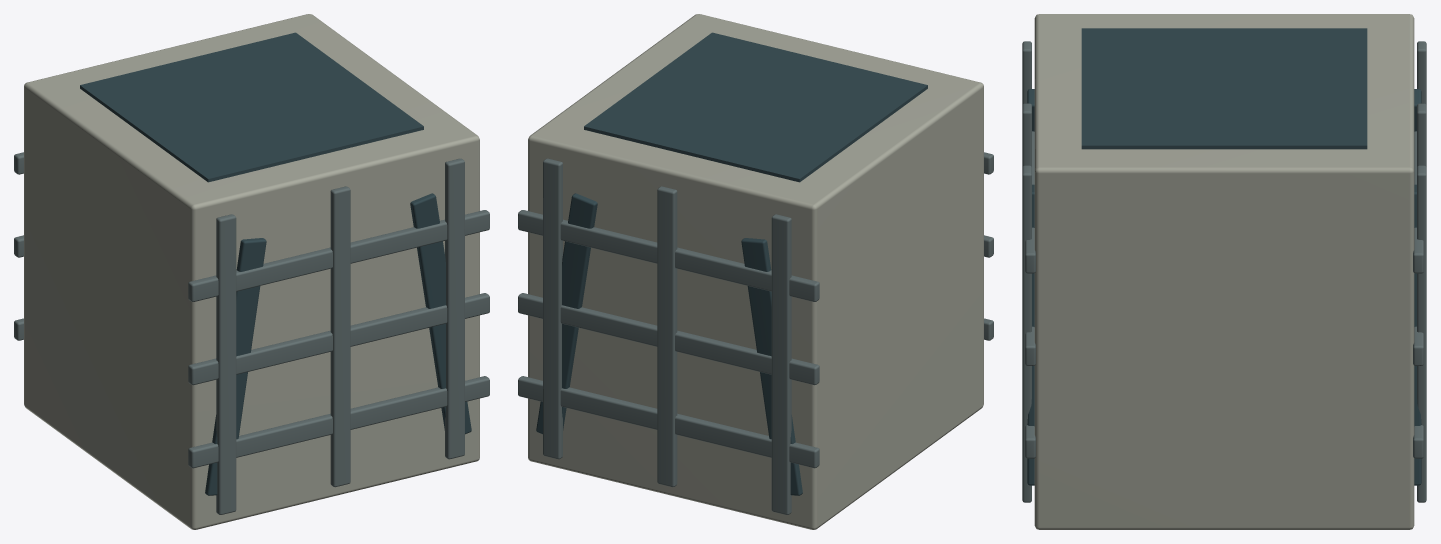
Rendered from abutment-shaft-1.glb.
3 renders of one model, left to right at view 1: azimuth 30°, elevation 25°; view 2: azimuth 150°, elevation 25°; view 3: azimuth 270°, elevation 25°, orthographic. The views are drawn at different scales.
Visible parts, largest first — view 1: abutment_1, abutment_2, abutment_0; view 2: abutment_1, abutment_2, abutment_0; view 3: abutment_1, abutment_2, abutment_0.
Boxes of the visible parts, <box> form: abutment_1: <box>24,14,479,529</box>; abutment_2: <box>80,32,471,495</box>; abutment_0: <box>14,152,489,514</box>; abutment_1: <box>528,14,983,529</box>; abutment_2: <box>536,32,927,495</box>; abutment_0: <box>518,152,993,514</box>; abutment_1: <box>1034,14,1414,529</box>; abutment_2: <box>1027,28,1421,485</box>; abutment_0: <box>1022,41,1426,502</box>.
Bounding box in the file's own units: 0.94 × 1 × 0.99.
